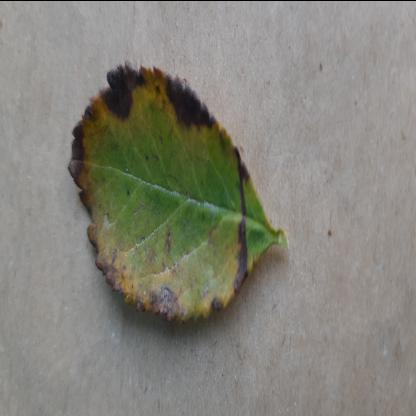black-spot: (62, 57, 280, 333)
